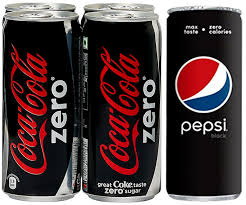coke-can-zero: (1, 2, 82, 201), (85, 3, 164, 201)
